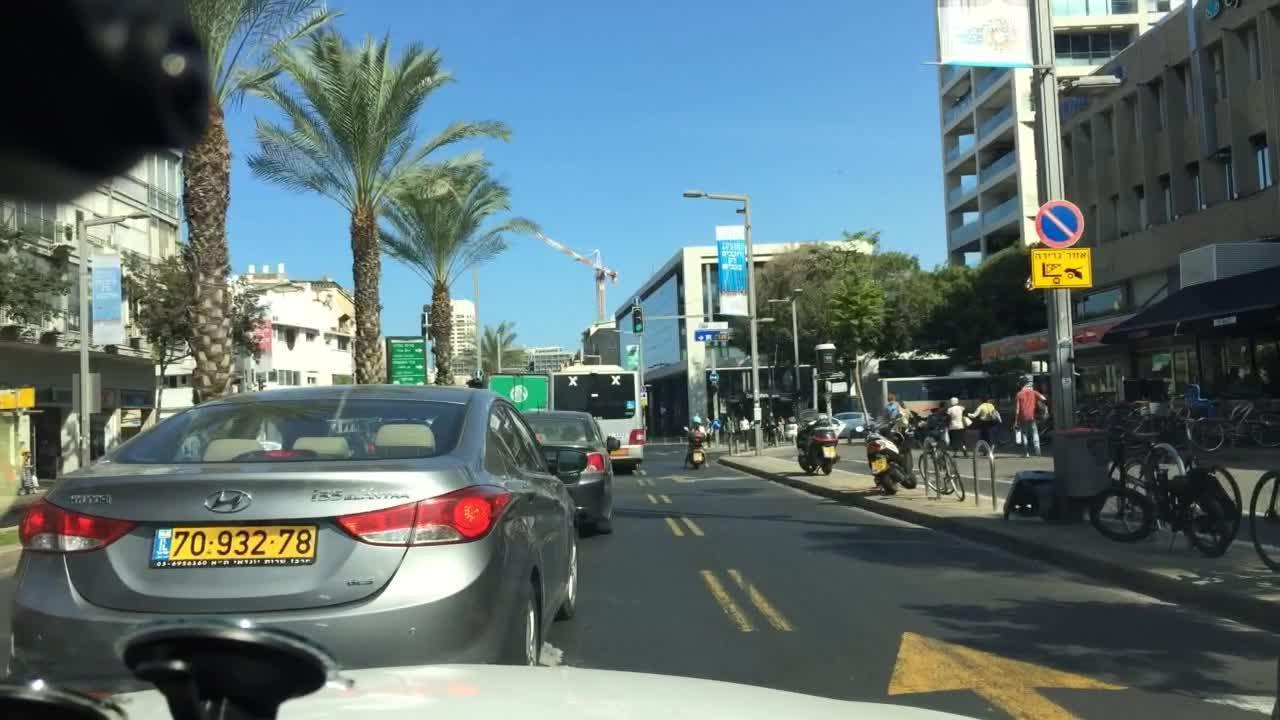Hyundai: (186, 473, 267, 522)
